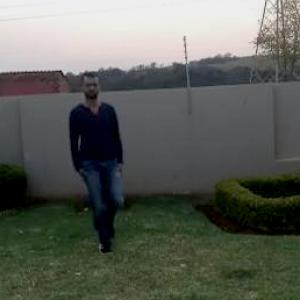follow: (69, 70, 128, 253)
